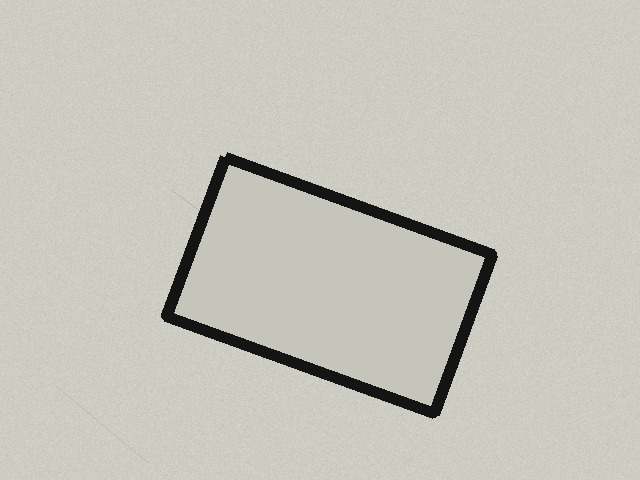parking_area: (166, 157, 492, 413)
